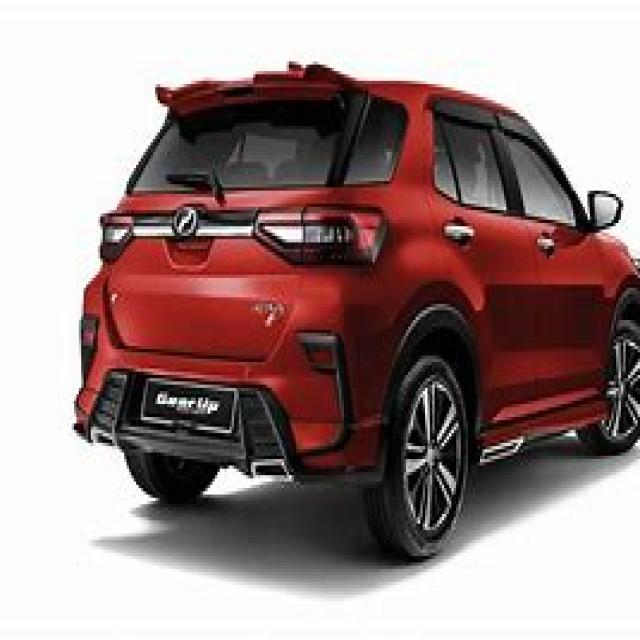PeroduaAtiva: (69, 59, 638, 562)
